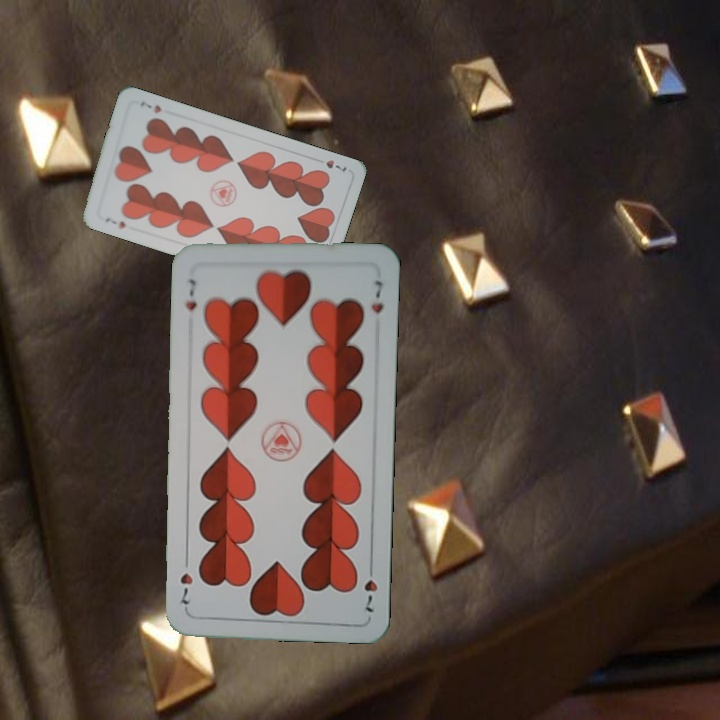H7: (360, 558, 380, 617), (311, 154, 349, 174), (181, 275, 199, 313), (101, 213, 128, 231)
